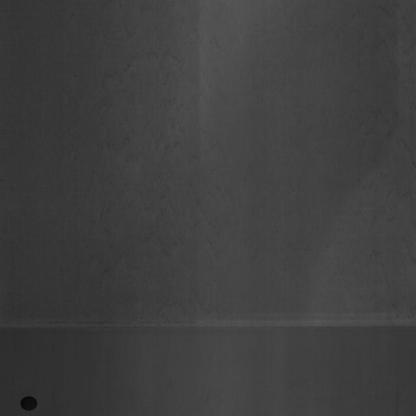punching_hole: (18, 391, 40, 414)
silk_spot: (72, 24, 204, 292), (350, 19, 414, 297)
welding_line: (5, 304, 410, 348)
